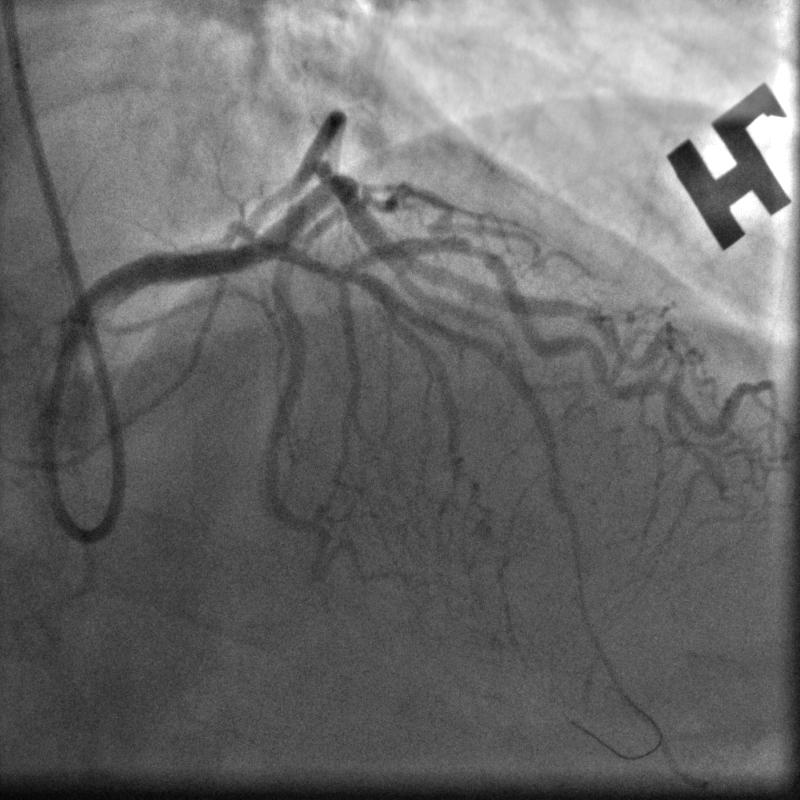Stenosis: (460, 230, 500, 272)
